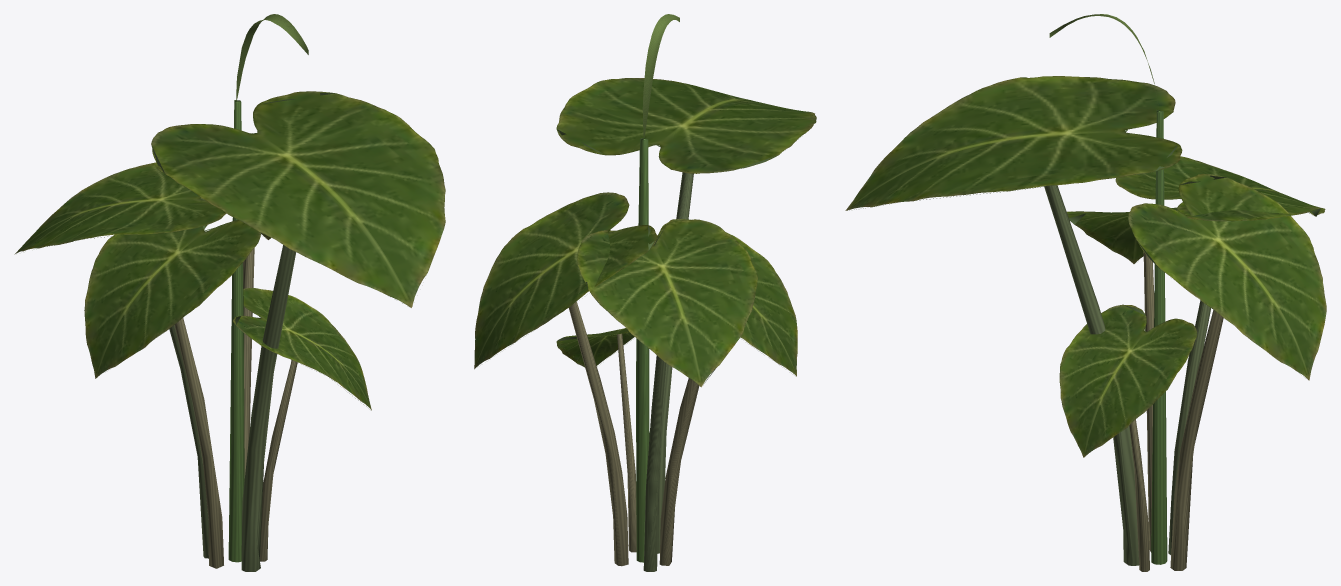
Rendered from taro-5-lite.glb.
3 views of the same model, side by side, from view 1: azimuth 30°, elevation 25°; view 2: azimuth 150°, elevation 25°; view 3: azimuth 270°, elevation 25° (orthographic). The views are drawn at different scales.
Parts seen in each view (by area): view 1: leaf, petiole, new-leaf; view 2: leaf, petiole, leaf-back, new-leaf; view 3: leaf, petiole, leaf-back.
Part boxes in pixels (left/top/right/bottom): leaf: left=14, top=91, right=445, bottom=410; petiole: left=169, top=100, right=297, bottom=571; new-leaf: left=236, top=14, right=308, bottom=100; leaf: left=474, top=78, right=816, bottom=387; petiole: left=569, top=138, right=699, bottom=571; leaf-back: left=556, top=332, right=634, bottom=367; new-leaf: left=642, top=14, right=679, bottom=138; leaf: left=845, top=76, right=1326, bottom=457; petiole: left=1044, top=110, right=1223, bottom=571; leaf-back: left=1067, top=208, right=1325, bottom=263.
Bounding box in the file's own units: 0.5811 × 1.09 × 0.8617.
Materials: 5 (4 with a texture image).
